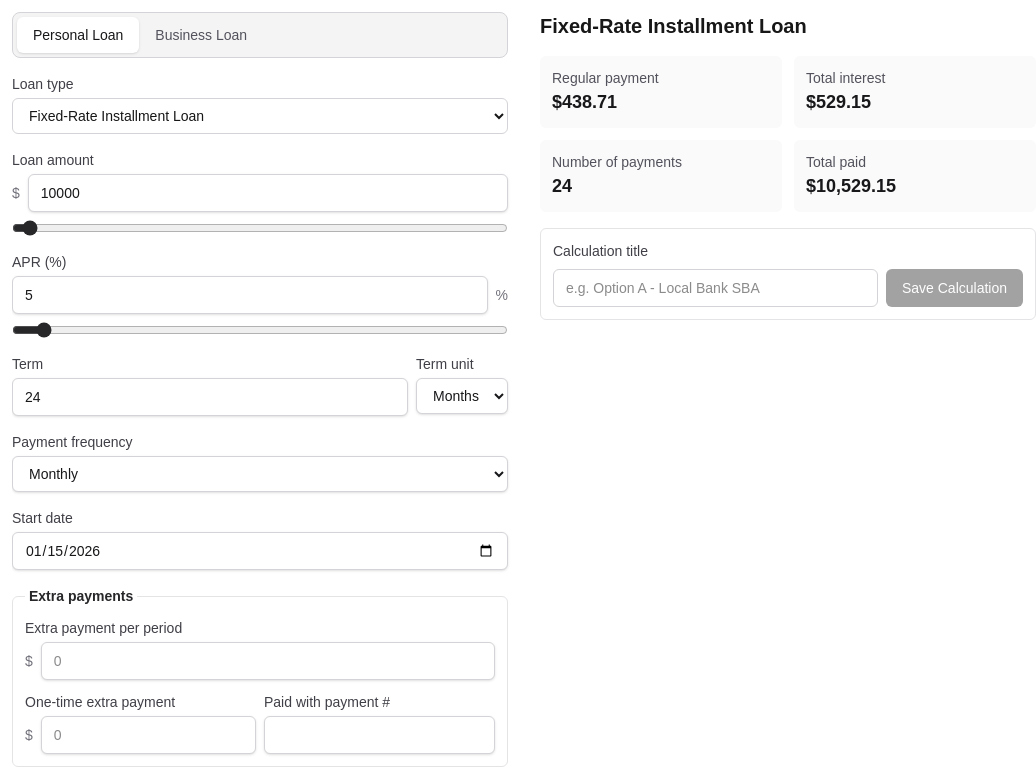
Test: Calculator form (REQ-UI-003, REQ-NFR-CODE2) › calculates EQUIPMENT from its default inputs
Click the radio button labelled "Business Loan".
click(201, 35)  # box [139,17,263,53]
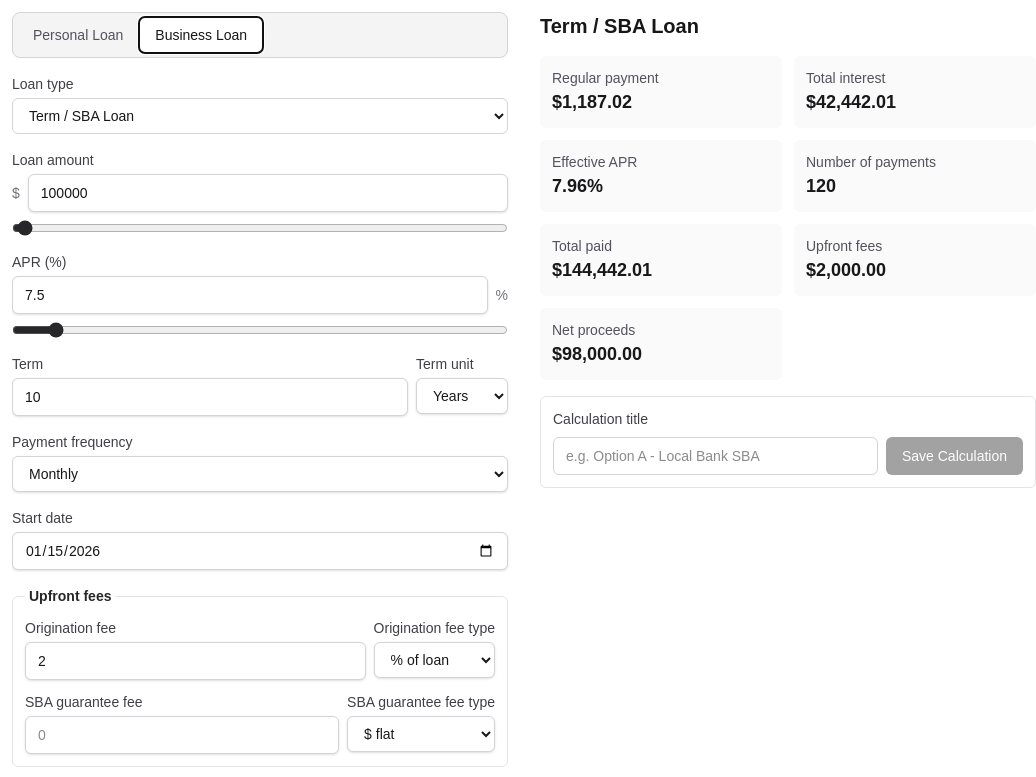
Select "Equipment Financing" in the dropdown labelled "Loan type" at {"x": 260, "y": 116}, box [12,98,508,134]
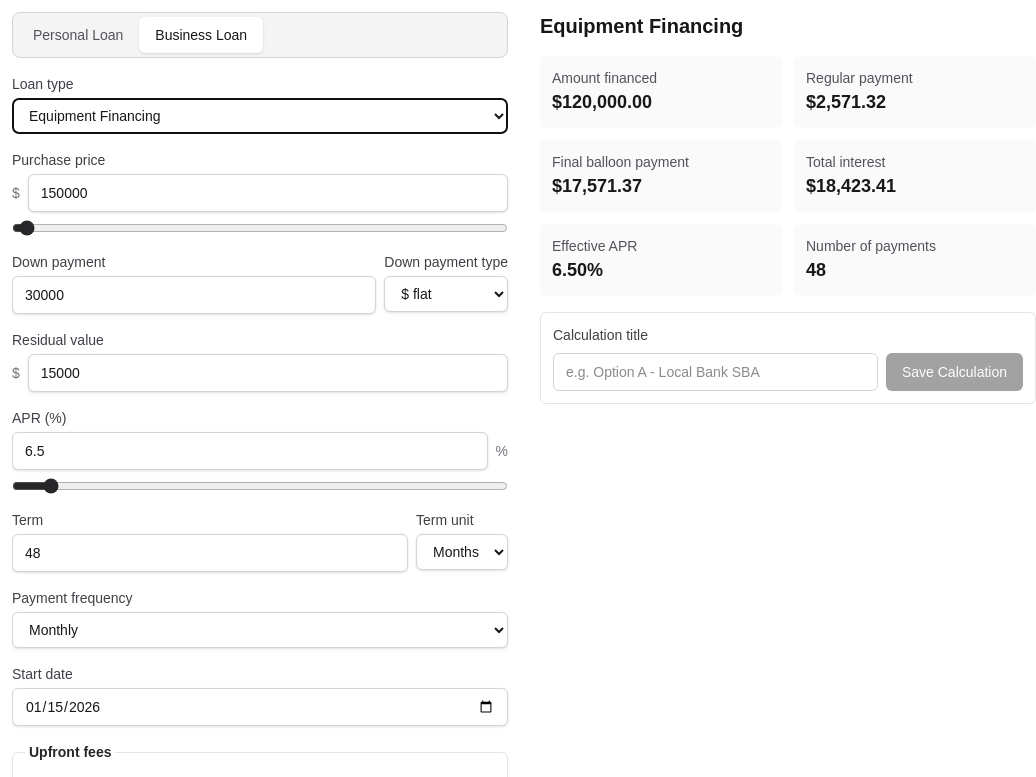
Expected: the heading "Equipment Financing" is shown, [540,15,743,37]
